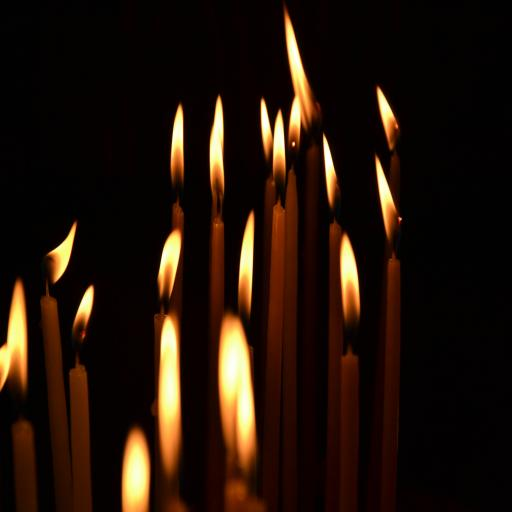candlelight: (294, 14, 325, 496), (370, 92, 404, 510), (38, 220, 76, 512), (256, 105, 277, 503), (205, 121, 226, 512), (0, 277, 34, 512), (326, 136, 345, 510), (280, 146, 298, 512), (68, 282, 95, 512), (338, 235, 360, 512), (156, 309, 185, 511), (164, 101, 185, 350), (238, 226, 256, 511), (377, 83, 401, 233), (120, 428, 151, 512), (262, 94, 276, 275), (238, 211, 254, 324), (170, 102, 184, 201)
